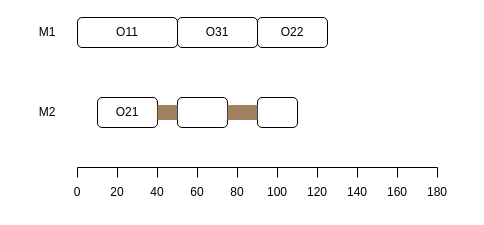
The diagram is 484 pixels wide and 225 high, and some of its shapes have lost their labels. The shapes that lost their labels are listed below. From the top down, each one's box as (x1, y1, x2, y2) in pixels, then its label:
(176, 96, 228, 128): O12
(256, 96, 298, 128): O32
